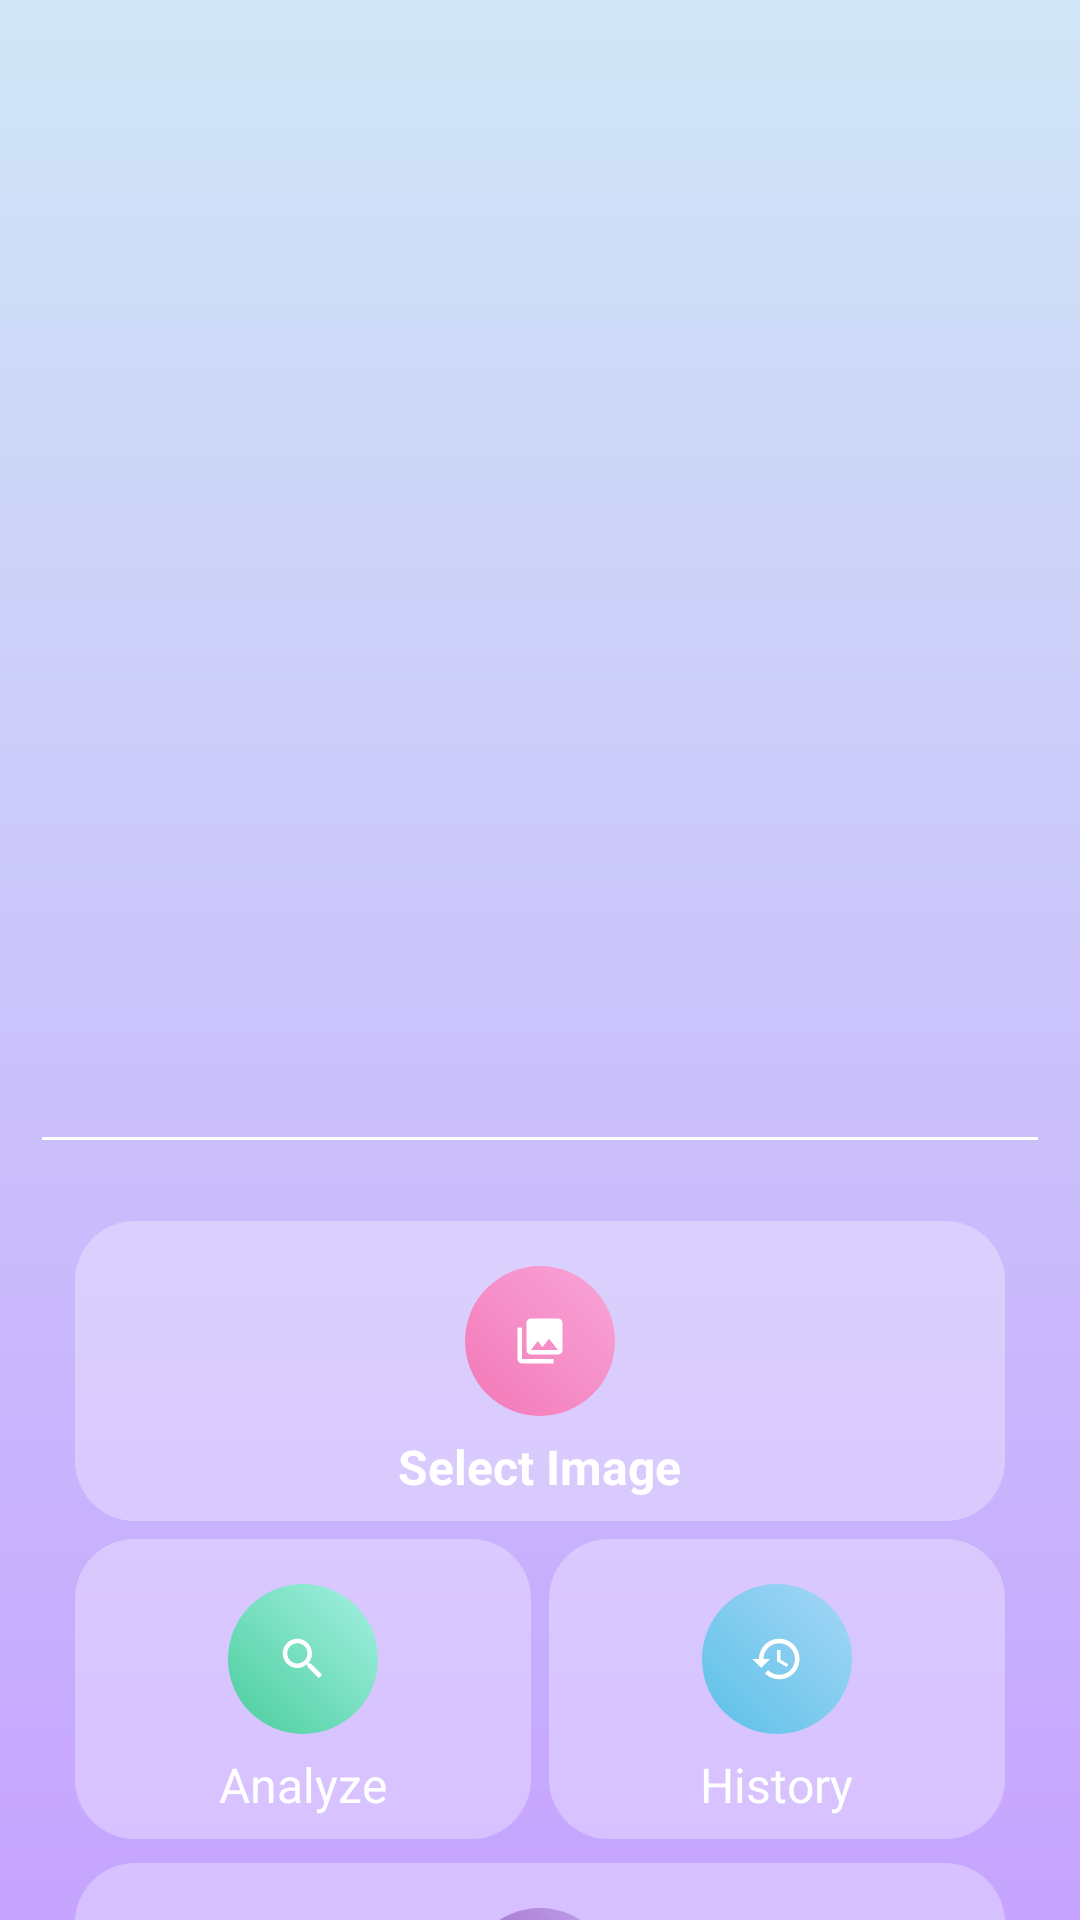

Icons on this 1080px x 1920px Android screen, each with its box as (x1, y1, x2, y2):
photo library: (465, 1266, 615, 1416)
